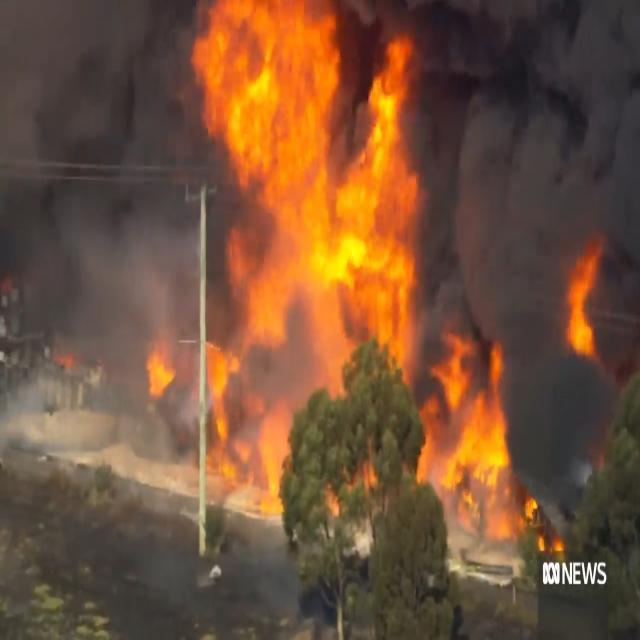fire: (204, 3, 427, 380), (406, 330, 566, 568), (210, 394, 289, 508), (560, 253, 608, 365), (134, 344, 182, 406)
